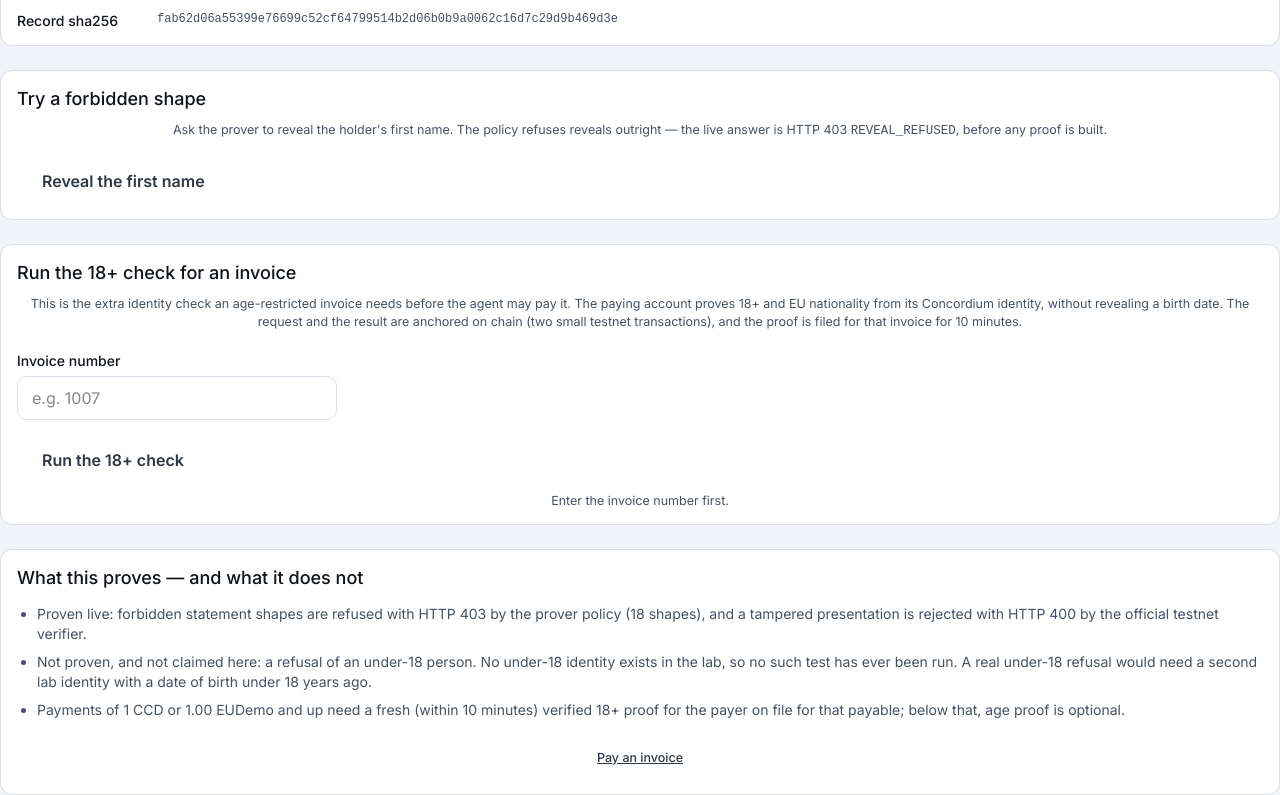
Test: AgeProofPage › runs the real V1 check for the invoice and shows Match with both anchors
(page scrolled)
Type "1007" into the field labelled "Invoice number" at (177, 398), box [17,376,337,420]
(page scrolled)
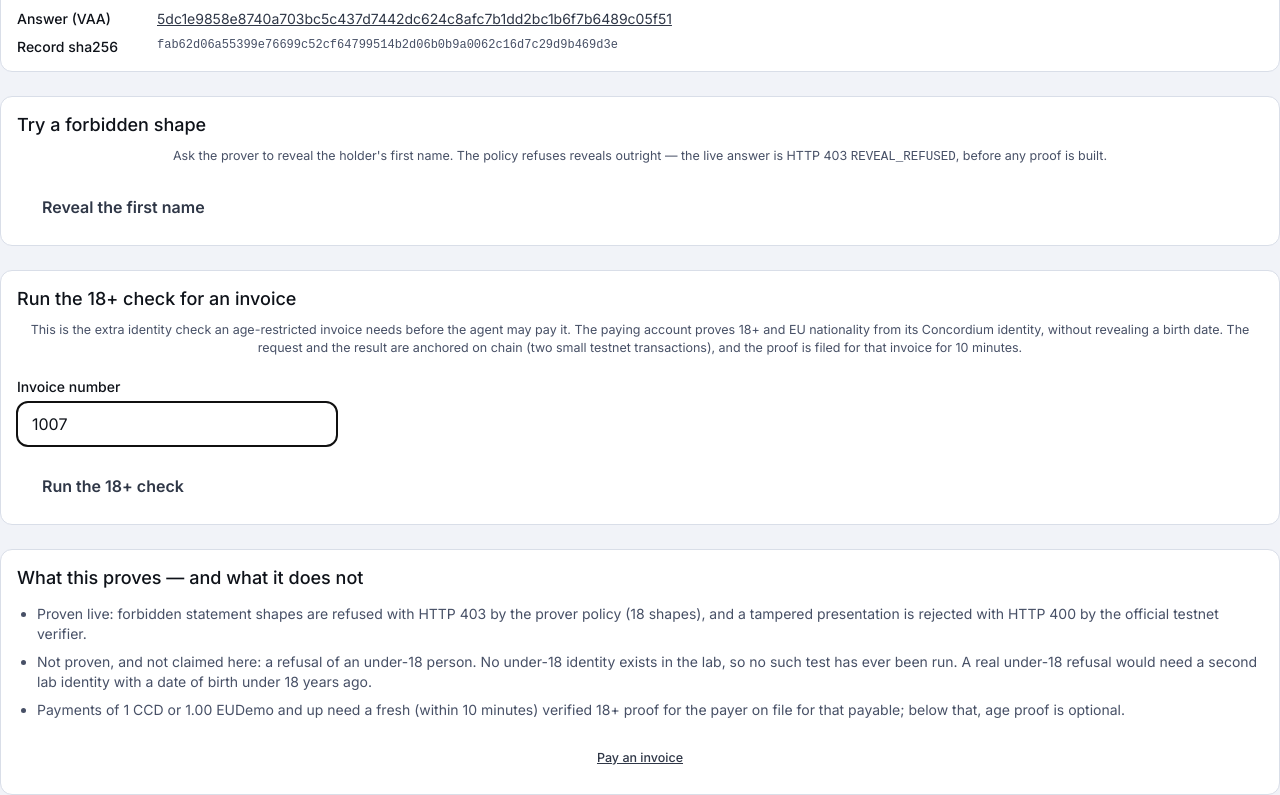
Click the button "Run the 18+ check" at (113, 486), box [17,462,209,510]
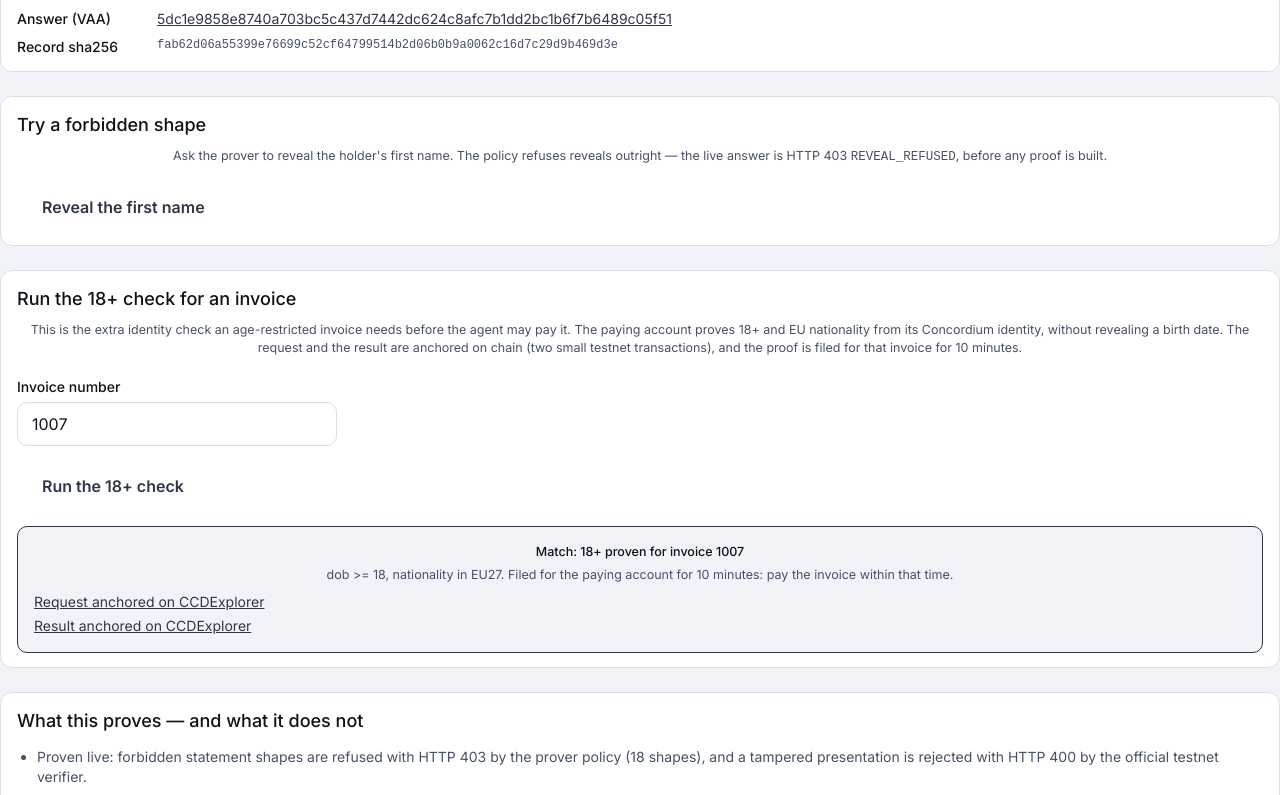
Result: the text "Match: 18+ proven for invoice 1007" is shown at [536,544,744,559]
